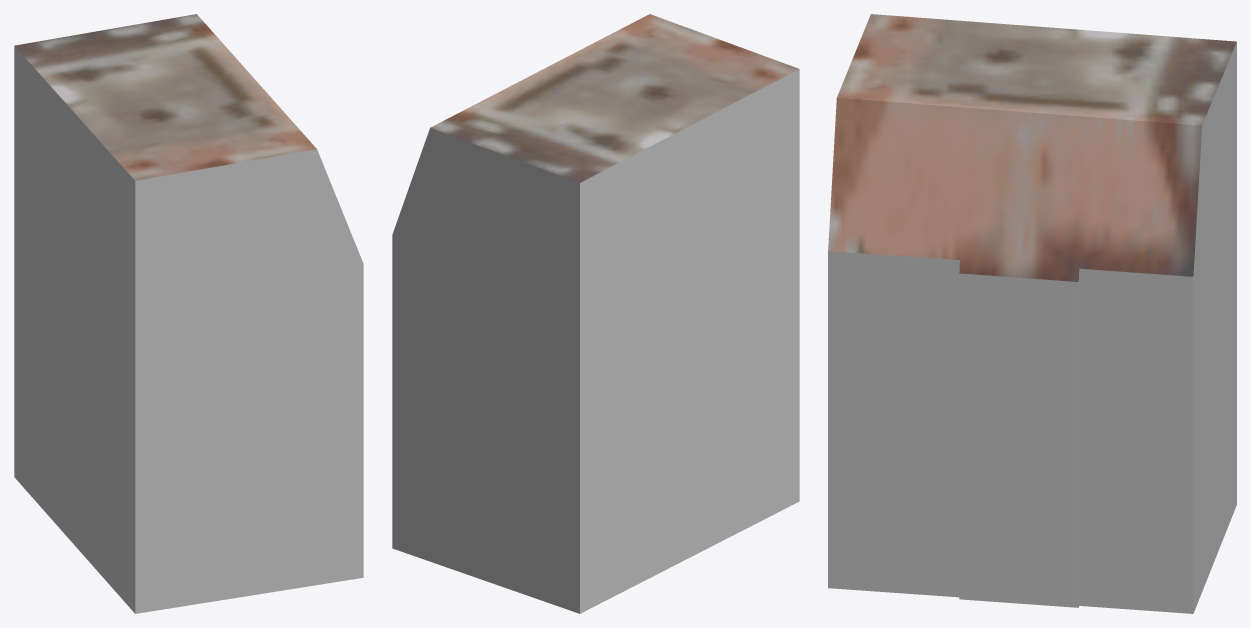
Rendered from DEBW_0010007Tx4n.gltf.
3 renders of one model, left to right at view 1: azimuth 30°, elevation 25°; view 2: azimuth 150°, elevation 25°; view 3: azimuth 270°, elevation 25°, orthographic. The views are drawn at different scales.
Parts seen in each view (by area): view 1: Z_UP; view 2: Z_UP; view 3: Z_UP.
Boxes of the visible parts, x1,y1,x2,y2 form: Z_UP: [14, 14, 363, 613]; Z_UP: [392, 14, 799, 613]; Z_UP: [828, 14, 1236, 613].
Size of the model in its own units: 10.36 by 16.75 by 13.26.
Materials: 2 (1 with a texture image).
